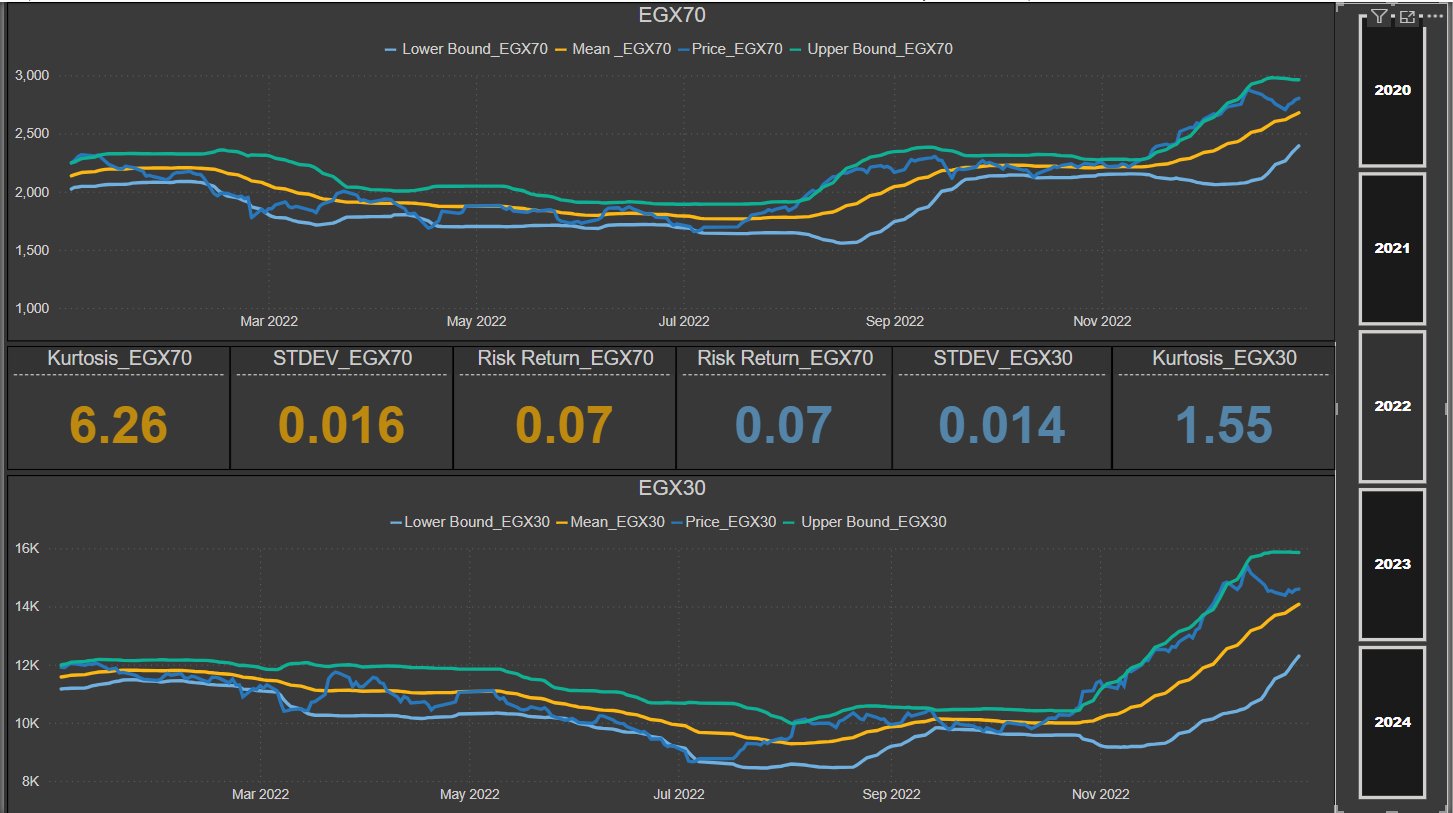

The dashboard page shown, as its layout file describes it:
{"tool":"powerbi","page":{"name":"Board","canvas":[1280,720],"ordinal":1},"visuals":[{"type":"lineChart","title":"EGX30","fields":{"Y":["Sum(EGX 30.Lower Bound_30)","Sum(EGX 30.mean 30_30)","Sum(EGX 30.Price_30)","Sum(EGX 30.Upper Bound_30)"],"Category":["EGX 30.date.Variation.Date Hierarchy.Year","EGX 30.date.Variation.Date Hierarchy.Quarter","EGX 30.date.Variation.Date Hierarchy.Month","EGX 30.date.Variation.Date Hierarchy.Day"]},"box":[2.7,419.4,1177.5,300.6],"z":0},{"type":"slicer","fields":{"Values":["EGX 70.year_70"]},"box":[1180.2,0.9,100.2,719.1],"z":1000},{"type":"lineChart","title":" EGX70","fields":{"Category":["EGX 70.date"],"Y":["Sum(EGX 70.Lower Bound_70)","Sum(EGX 70.mean 30_70)","Sum(EGX 70.Price_70)","Sum(EGX 70.Upper Bound_70)"]},"box":[2.7,0,1177.5,300.6],"z":2000},{"type":"card","title":"STDEV_EGX30","fields":{"Values":["#measure.STDEV_30"]},"box":[787.4,305,195.1,110],"z":3000},{"type":"card","title":"STDEV_EGX70","fields":{"Values":["#measure.STDEV_70"]},"box":[200.4,305,197.7,110],"z":4000},{"type":"card","title":"Kurtosis_EGX70","fields":{"Values":["#measure.Kurtosis_70"]},"box":[2.7,305,197.7,110],"z":5000},{"type":"card","title":"Kurtosis_EGX30","fields":{"Values":["#measure.Kurtosis_30"]},"box":[982.5,305,197.7,110],"z":6000},{"type":"card","title":"Risk Return_EGX70","fields":{"Values":["#measure.Risk Return_30"]},"box":[595.9,305,191.5,110],"z":7000},{"type":"card","title":"Risk Return_EGX70","fields":{"Values":["#measure.Risk Return_70"]},"box":[398.1,305,197.7,110],"z":8000}]}

Visuals, with their boxes in screenshot pixels (x1, y1, x2, y2), scaled from the page's 1280x720 canvas onto the 1453x813 screenshot:
"EGX30" lineChart: locate(3, 474, 1340, 812)
slicer - EGX 70.year_70: locate(1340, 1, 1452, 812)
" EGX70" lineChart: locate(3, 0, 1340, 339)
"STDEV_EGX30" card: locate(894, 344, 1115, 469)
"STDEV_EGX70" card: locate(227, 344, 452, 469)
"Kurtosis_EGX70" card: locate(3, 344, 227, 469)
"Kurtosis_EGX30" card: locate(1115, 344, 1340, 469)
"Risk Return_EGX70" card: locate(676, 344, 894, 469)
"Risk Return_EGX70" card: locate(452, 344, 676, 469)
